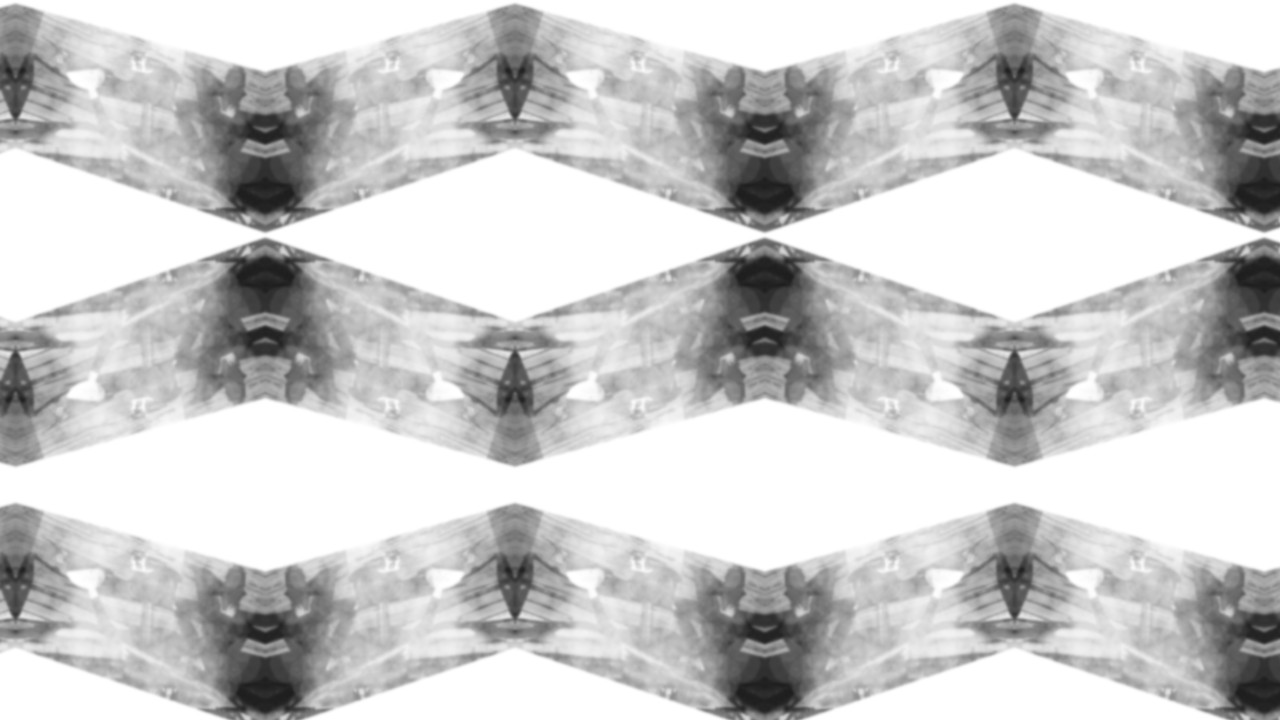chock: (125, 47, 172, 81), (358, 47, 405, 81), (625, 47, 672, 81), (858, 47, 905, 81), (1125, 47, 1172, 81), (125, 389, 172, 423), (358, 389, 405, 423), (625, 389, 672, 423), (858, 389, 905, 423), (1125, 389, 1172, 423), (125, 547, 172, 581), (358, 547, 405, 581), (625, 547, 672, 581), (858, 547, 905, 581), (1125, 547, 1172, 581), (50, 44, 83, 71), (447, 44, 480, 71), (550, 44, 583, 71), (947, 44, 980, 71), (1050, 44, 1083, 71), (50, 399, 83, 426), (447, 399, 480, 426), (550, 399, 583, 426), (947, 399, 980, 426), (1050, 399, 1083, 426), (50, 544, 83, 571), (447, 544, 480, 571), (550, 544, 583, 571), (947, 544, 980, 571), (1050, 544, 1083, 571)
wheel: (120, 55, 188, 113), (342, 55, 410, 113), (620, 55, 688, 113), (842, 55, 910, 113), (1120, 55, 1188, 113), (120, 357, 188, 415), (342, 357, 410, 415), (620, 357, 688, 415), (842, 357, 910, 415), (1120, 357, 1188, 415), (120, 555, 188, 613), (342, 555, 410, 613), (620, 555, 688, 613), (842, 555, 910, 613), (1120, 555, 1188, 613), (58, 53, 110, 97), (420, 53, 472, 97), (558, 53, 610, 97), (920, 53, 972, 97), (1058, 53, 1110, 97), (58, 373, 110, 417), (420, 373, 472, 417), (558, 373, 610, 417), (920, 373, 972, 417), (1058, 373, 1110, 417), (58, 553, 110, 597), (420, 553, 472, 597), (558, 553, 610, 597), (920, 553, 972, 597), (1058, 553, 1110, 597)
